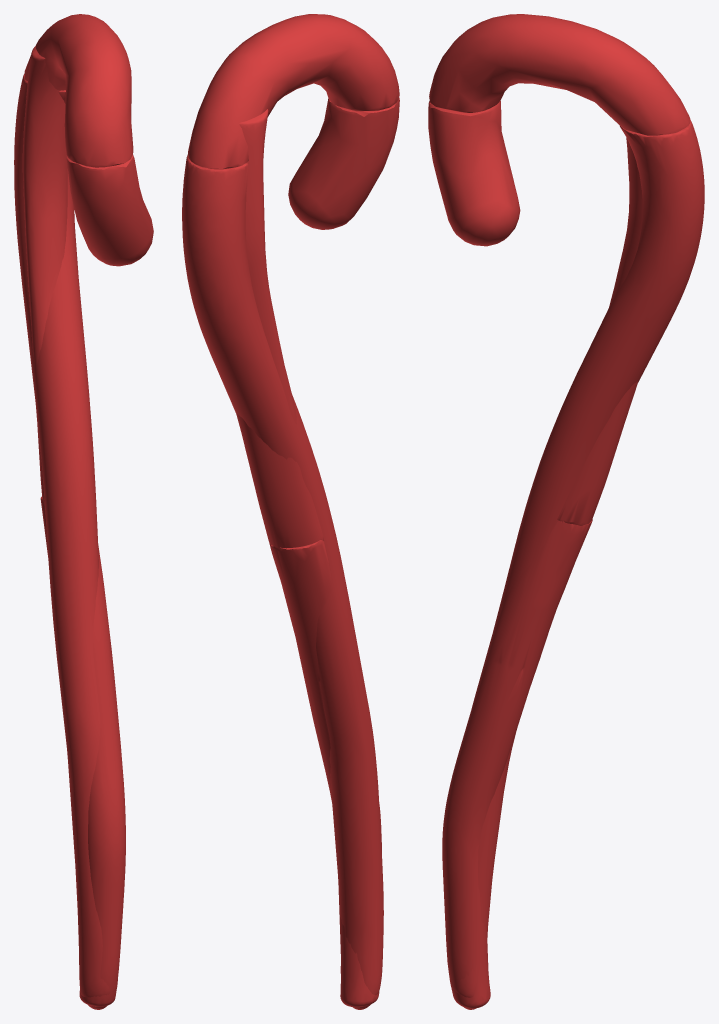
Rendered from aorta.glb.
3 renders of one model, left to right at view 1: azimuth 30°, elevation 25°; view 2: azimuth 150°, elevation 25°; view 3: azimuth 270°, elevation 25°, orthographic. The views are drawn at different scales.
Parts seen in each view (by area): view 1: aorta; view 2: aorta; view 3: aorta.
Boxes of the visible parts, x1,y1,x2,y2 form: aorta: (14,14,153,1009); aorta: (182,14,399,1009); aorta: (428,14,704,1009).
Size of the model in its own units: 0.0417 by 0.3703 by 0.0924.
